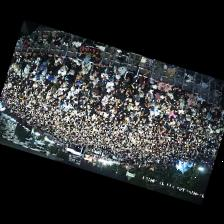person: (123, 60, 140, 82), (57, 58, 70, 78), (63, 68, 74, 85), (157, 81, 171, 94), (92, 62, 105, 76), (171, 86, 185, 99), (139, 70, 149, 88), (150, 102, 159, 120), (81, 82, 91, 98), (186, 92, 195, 109), (37, 59, 47, 74), (30, 55, 39, 71), (113, 65, 125, 77), (70, 58, 81, 71), (135, 97, 145, 111), (129, 79, 137, 94), (53, 53, 63, 65), (155, 92, 168, 101), (39, 52, 50, 62), (164, 98, 174, 109), (79, 70, 89, 81), (81, 61, 90, 73), (146, 88, 155, 100), (105, 78, 113, 91), (99, 84, 107, 97), (120, 80, 128, 93), (113, 74, 123, 84), (90, 86, 99, 97), (50, 81, 59, 92), (106, 64, 113, 78), (100, 68, 107, 82), (149, 78, 158, 88), (202, 100, 211, 110), (117, 93, 126, 103), (91, 73, 100, 83), (168, 109, 176, 120), (195, 94, 202, 106), (43, 73, 52, 82), (47, 55, 54, 66), (209, 100, 216, 111), (101, 93, 108, 104), (22, 64, 29, 75), (39, 66, 46, 77), (94, 79, 102, 88), (137, 84, 143, 96), (182, 100, 188, 112), (165, 90, 172, 100), (113, 85, 120, 94), (19, 51, 25, 59), (178, 109, 183, 117), (221, 108, 223, 118)
